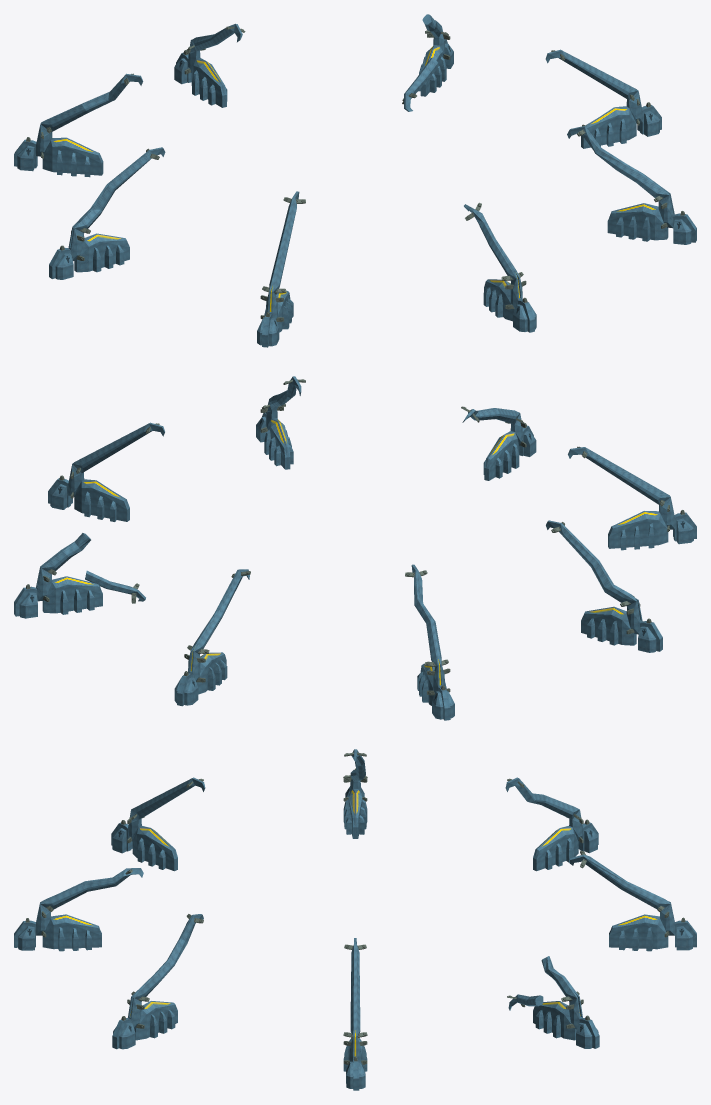
The model's file is C1SMXSHIELDWRECK_H.bgf.obj.
3 renders of one model, top to bottom at view 1: azimuth 30°, elevation 25°; view 2: azimuth 150°, elevation 25°; view 3: azimuth 270°, elevation 25°, orthographic. The views are drawn at different scales.
Parts seen in each view (by area): view 1: C1SMXSHIELDWRECK; view 2: C1SMXSHIELDWRECK; view 3: C1SMXSHIELDWRECK.
Part boxes in pixels (<box>): C1SMXSHIELDWRECK: <box>14,14,696,347</box>; C1SMXSHIELDWRECK: <box>14,376,696,720</box>; C1SMXSHIELDWRECK: <box>14,749,696,1090</box>.
Size of the model in its own units: 214 by 34.6 by 214.
Materials: 4 (4 with a texture image).
